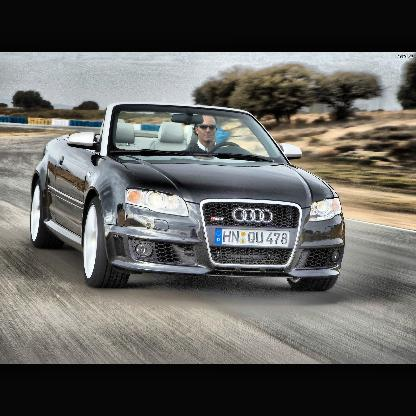Audi RS 4 Convertible 2008: (28, 107, 347, 294)
